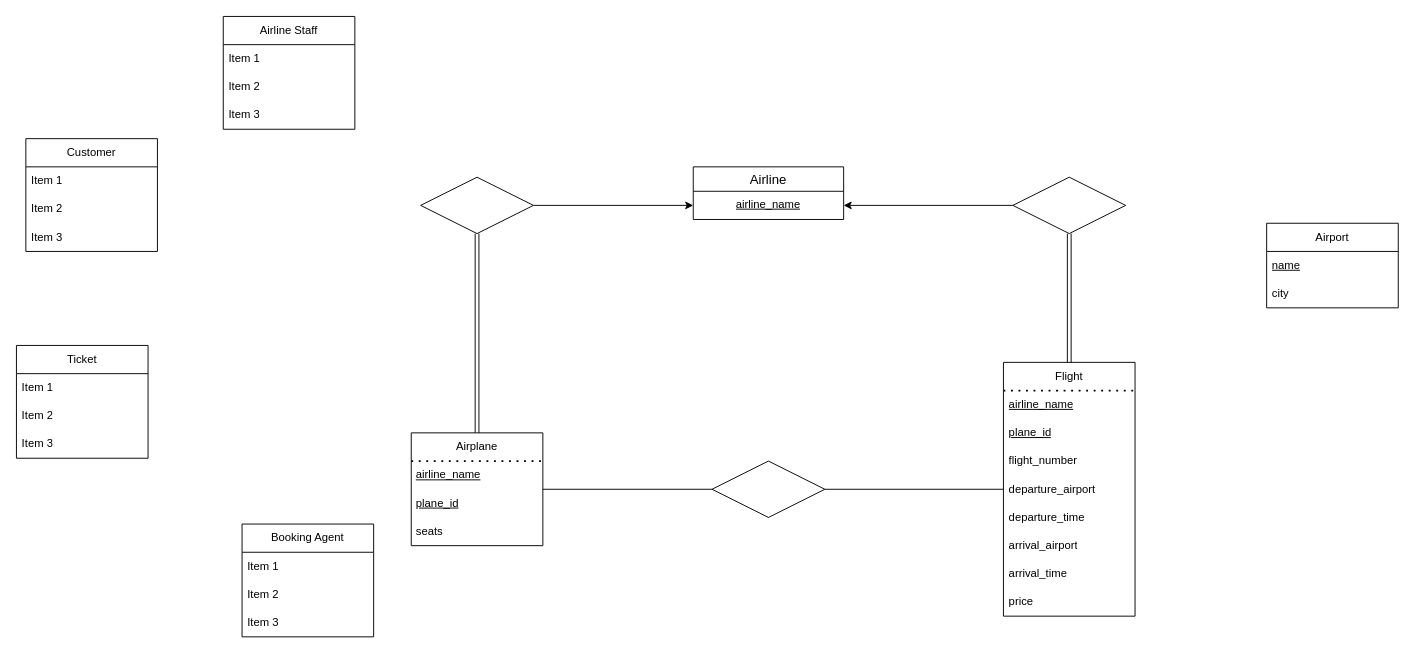
The diagram is 1415 pixels wide and 653 high, and some of its shapes have lost their labels. The shapes that lost their labels are listed below. From the top down, each one's centre as x and y in pixels, then its label:
At (x=476, y=205): "owns".
At (x=1069, y=205): "operates".
At (x=768, y=488): "flies".
